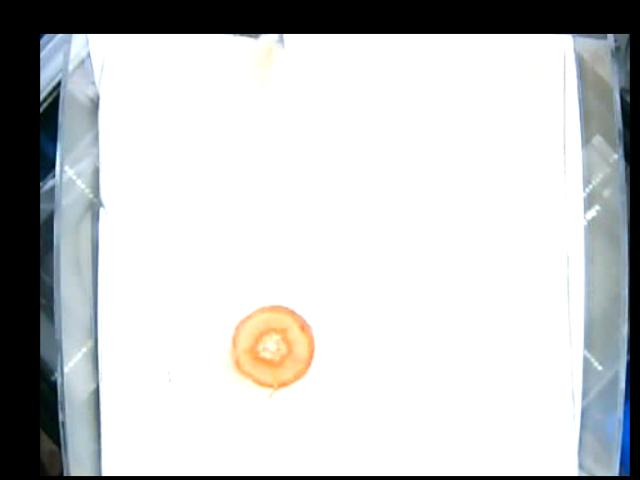Carrot: (229, 304, 315, 387)
